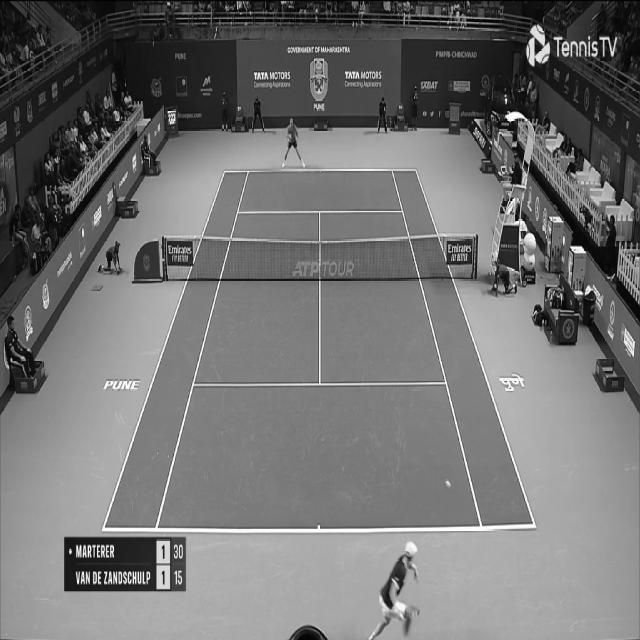tennis-court: (101, 169, 537, 533)
